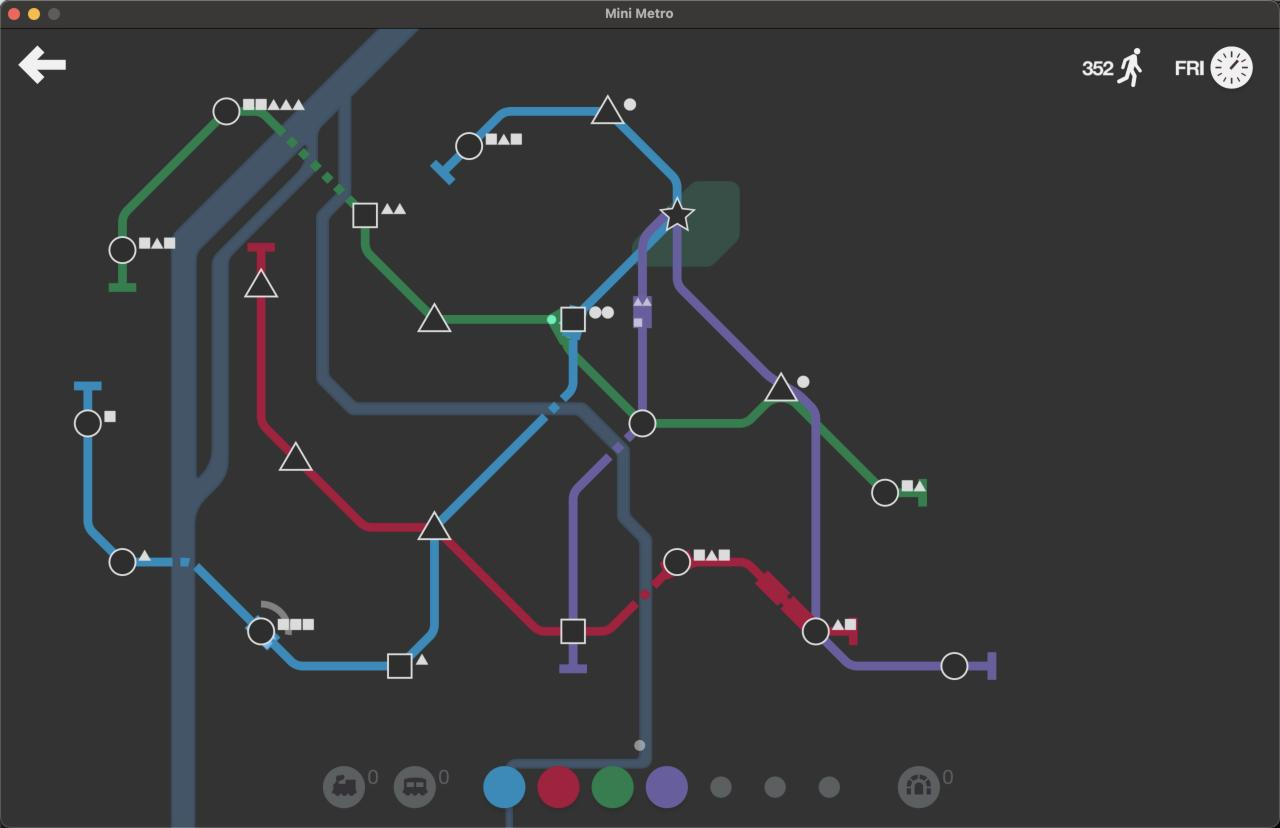CIRCLE: (628, 408, 657, 439), (212, 96, 241, 126), (73, 409, 103, 438), (108, 235, 137, 265), (455, 130, 484, 160), (108, 547, 137, 577), (246, 616, 275, 646), (662, 547, 691, 576), (801, 617, 830, 646), (871, 478, 899, 507), (940, 651, 968, 680)
SQUARE: (351, 201, 379, 230), (559, 305, 587, 334), (386, 652, 413, 680), (560, 617, 587, 644)
STAR: (658, 199, 696, 233)
TRIANGLE: (416, 509, 453, 541), (416, 302, 453, 334), (278, 440, 314, 472), (243, 268, 279, 299), (590, 93, 624, 124), (765, 371, 798, 402)
